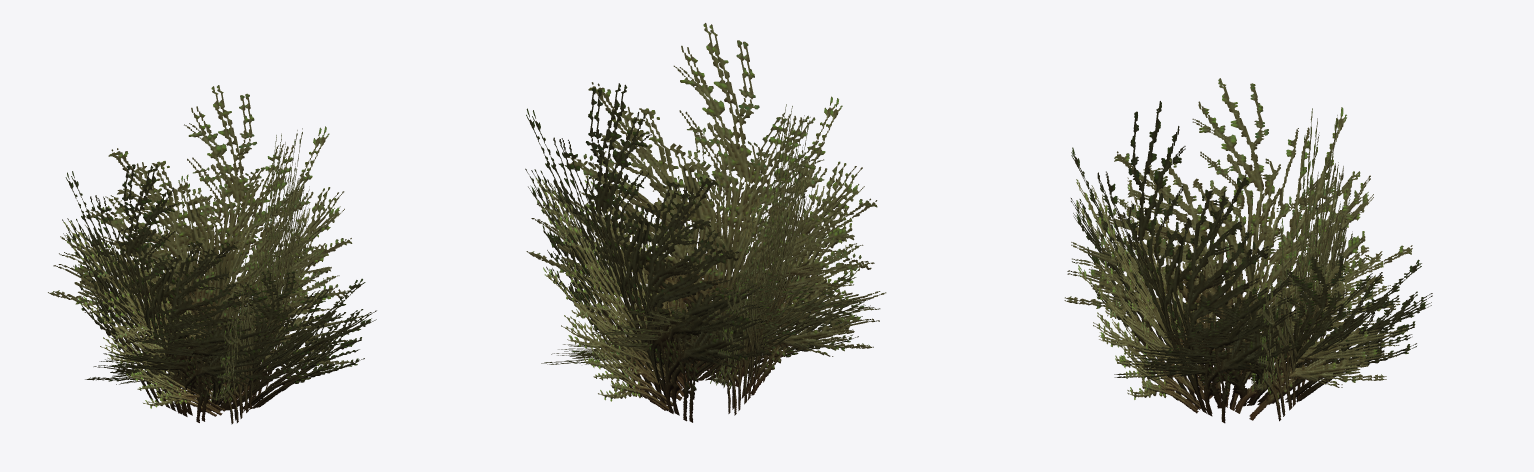
The model's file is GM_guanmu001_003.FBX.
3 views of the same model, side by side, from view 1: azimuth 30°, elevation 25°; view 2: azimuth 150°, elevation 25°; view 3: azimuth 270°, elevation 25° (orthographic). The views are drawn at different scales.
Parts seen in each view (by area): view 1: GM_巴陵灌木001_003; view 2: GM_巴陵灌木001_003; view 3: GM_巴陵灌木001_003.
Part boxes in pixels (box(x1,y1,x2,y2)): GM_巴陵灌木001_003: box(48, 85, 376, 424); GM_巴陵灌木001_003: box(525, 23, 886, 422); GM_巴陵灌木001_003: box(1064, 78, 1432, 423).
Size of the model in its own units: 174 by 143 by 190.
